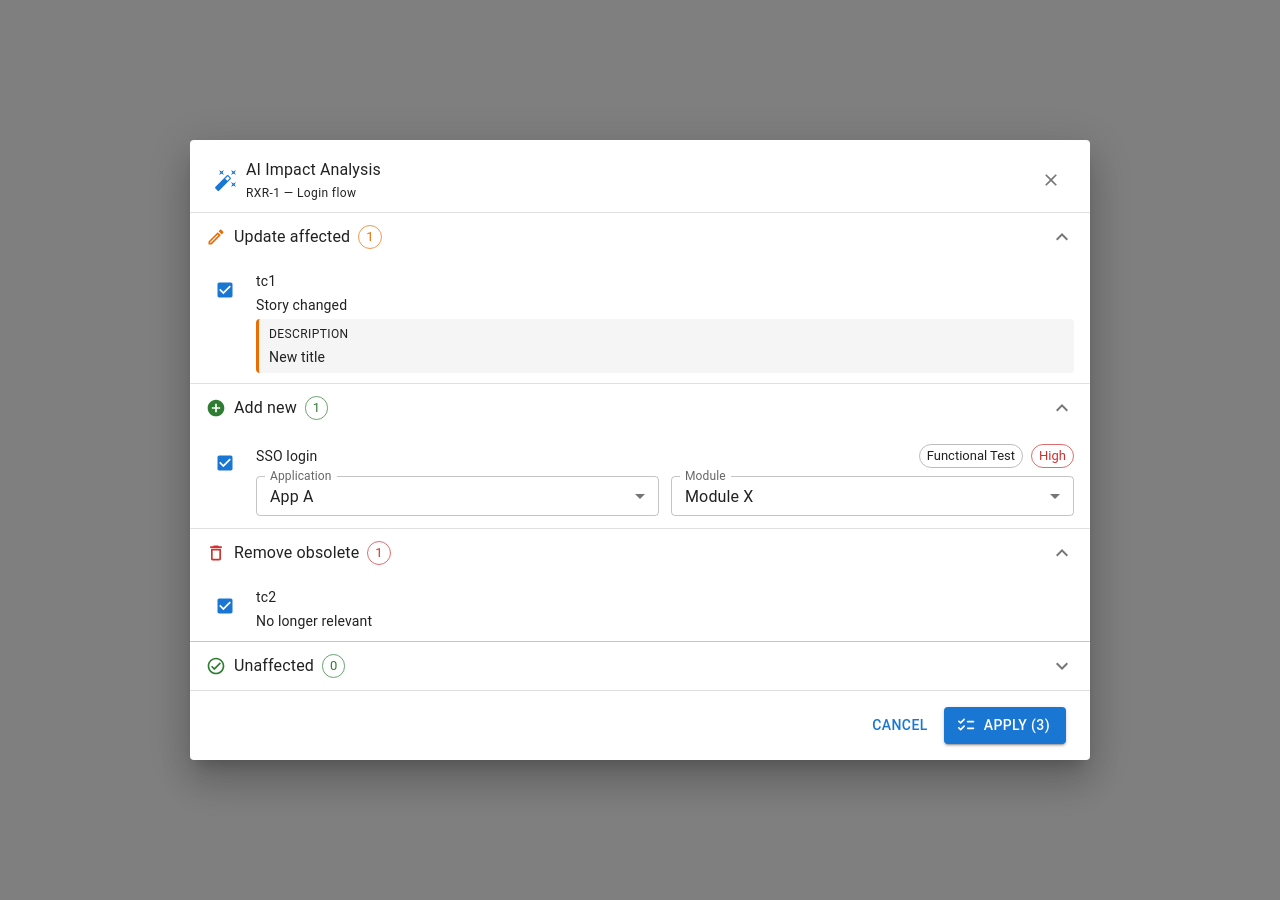
JiraImpactAnalysisDialog › treats a duplicate (409) new case as skipped, not failed, and still acknowledges
Expected: the text "Update affected" is shown, [234,225,350,249]
Click the button "Apply (3)": (1005, 725) [944,707,1066,744]
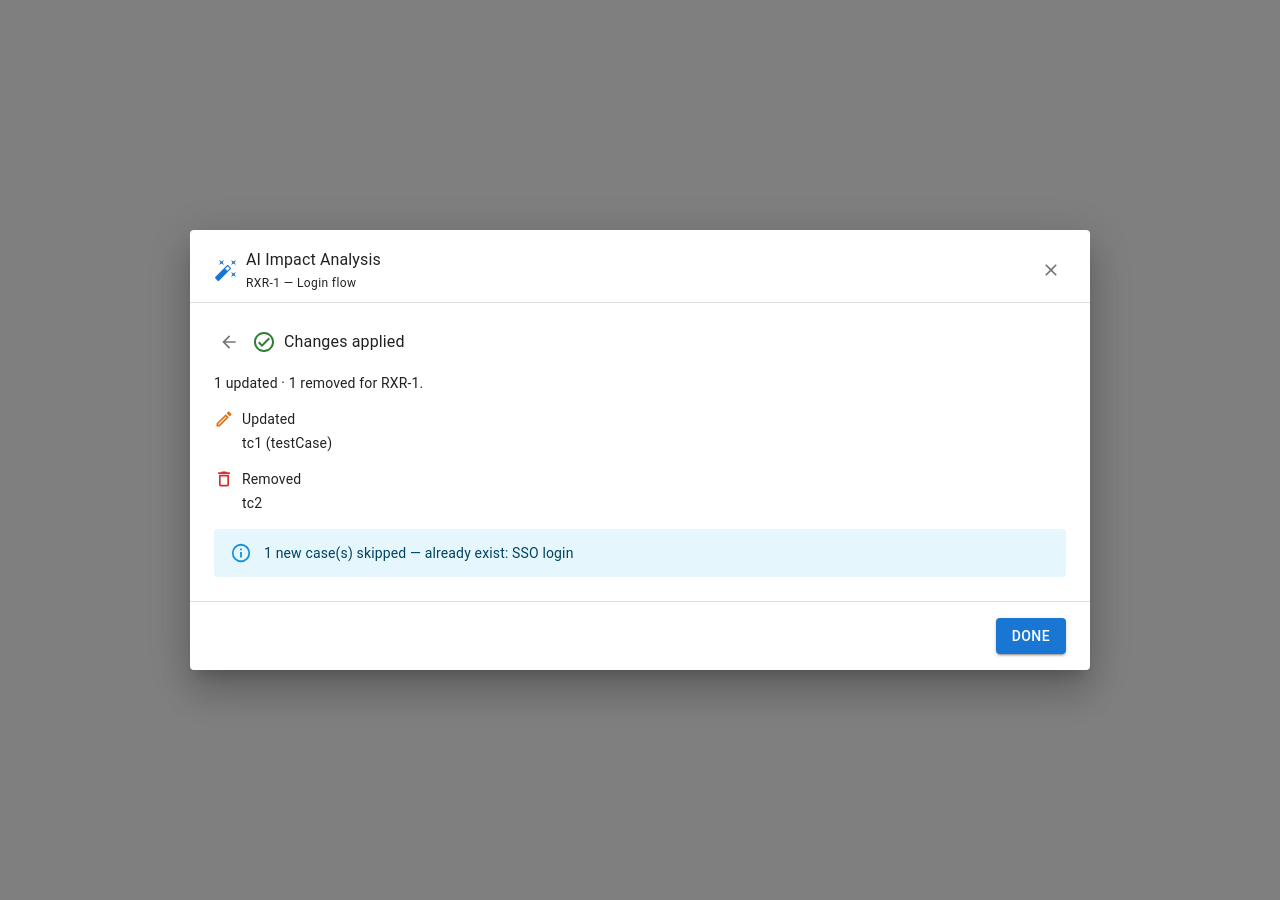
Expected: the heading "Changes applied" is shown, [284,328,405,356]
Expected: the text "1 new case(s) skipped — already exist: SSO login" is shown, [264,545,574,561]
